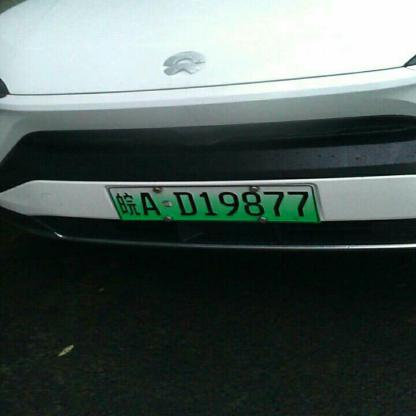lp: (106, 185, 320, 221)
